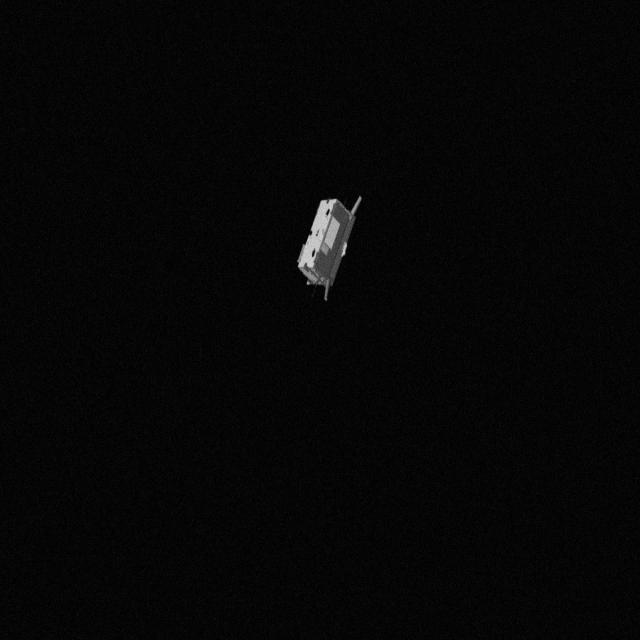medium_debris: (294, 188, 378, 308)
